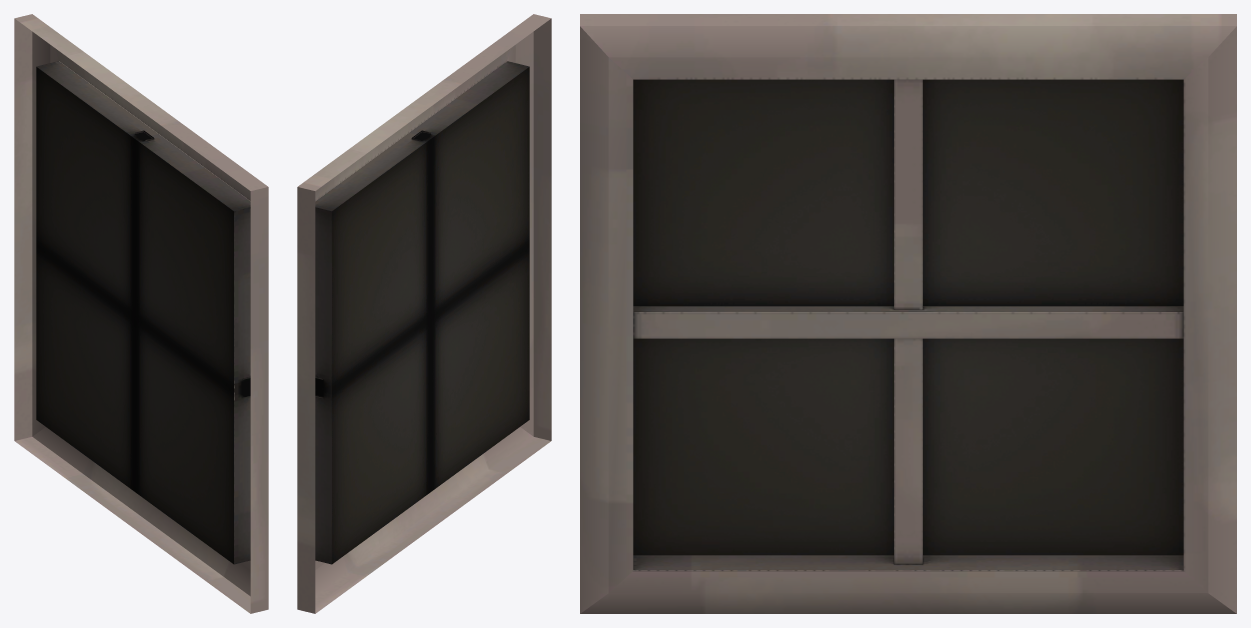
Rendered from external_window_04a.glb.
3 views of the same model, side by side, from view 1: azimuth 30°, elevation 25°; view 2: azimuth 150°, elevation 25°; view 3: azimuth 270°, elevation 25° (orthographic). The views are drawn at different scales.
Visible parts, largest first — view 1: external_window_04a; view 2: external_window_04a; view 3: external_window_04a.
Part boxes in pixels (x1,y1,x2,y2): external_window_04a: (14,14,268,613); external_window_04a: (297,14,551,613); external_window_04a: (580,14,1236,613).
Size of the model in its own units: 0.1098 by 1.73 by 1.76.
1 material, 1 textured.
